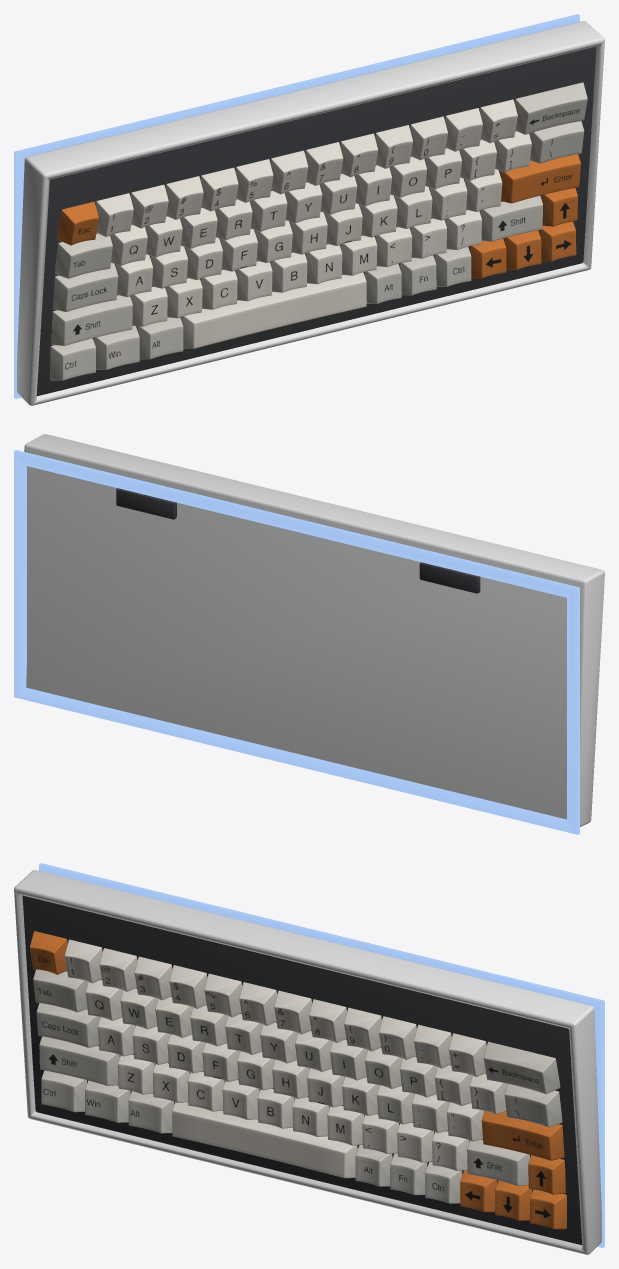
The model's file is keyboard.glb.
3 renders of one model, top to bottom at view 1: azimuth 30°, elevation 25°; view 2: azimuth 150°, elevation 25°; view 3: azimuth 330°, elevation 25°, orthographic.
Parts seen in each view (by area): view 1: Keycaps, Tray, TopCase, Underglow; view 2: Tray, Underglow, Feet; view 3: Keycaps, Tray, TopCase, Underglow.
Boxes of the visible parts, x1,y1,x2,y2 form: Keycaps: (50, 82, 587, 380); Tray: (17, 21, 604, 405); TopCase: (36, 46, 596, 396); Underglow: (14, 14, 579, 398); Tray: (24, 434, 604, 826); Underglow: (14, 450, 579, 834); Feet: (116, 488, 480, 593); Keycaps: (29, 931, 566, 1229); Tray: (14, 870, 601, 1254); TopCase: (22, 895, 582, 1245); Underglow: (39, 863, 604, 1247).
Bounding box in the file's own units: 308 × 129 × 34.13.
4 materials, 1 textured.
